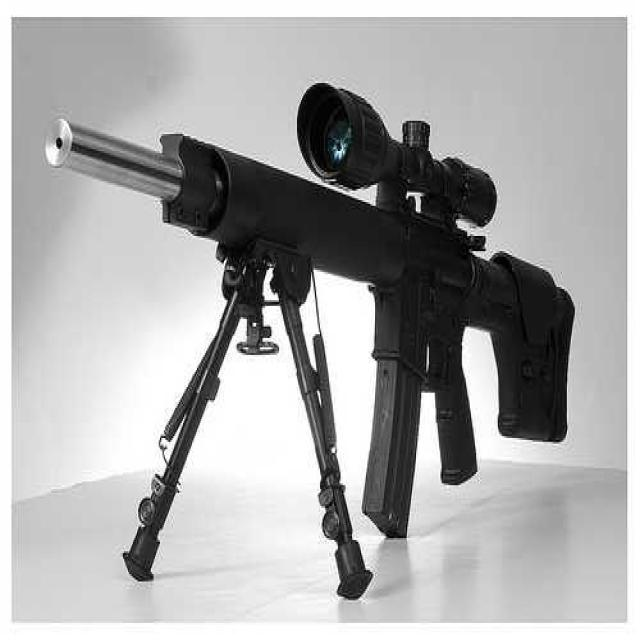RifleTel: (29, 60, 584, 560)
